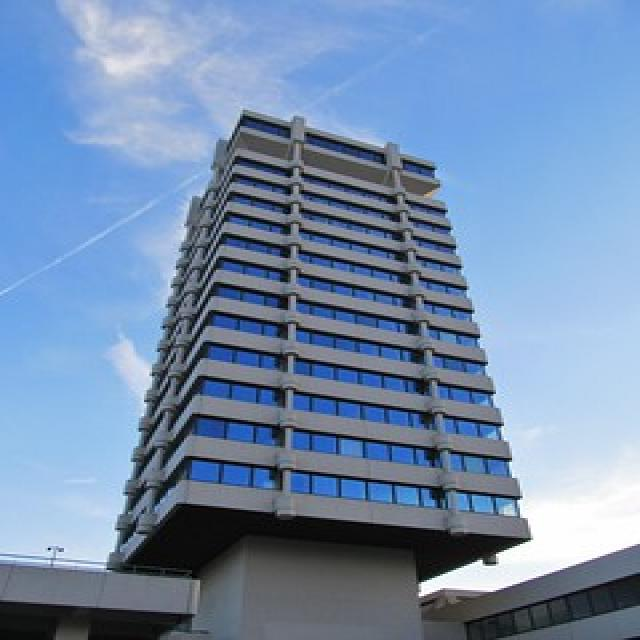Normal_building: (100, 103, 535, 627)
